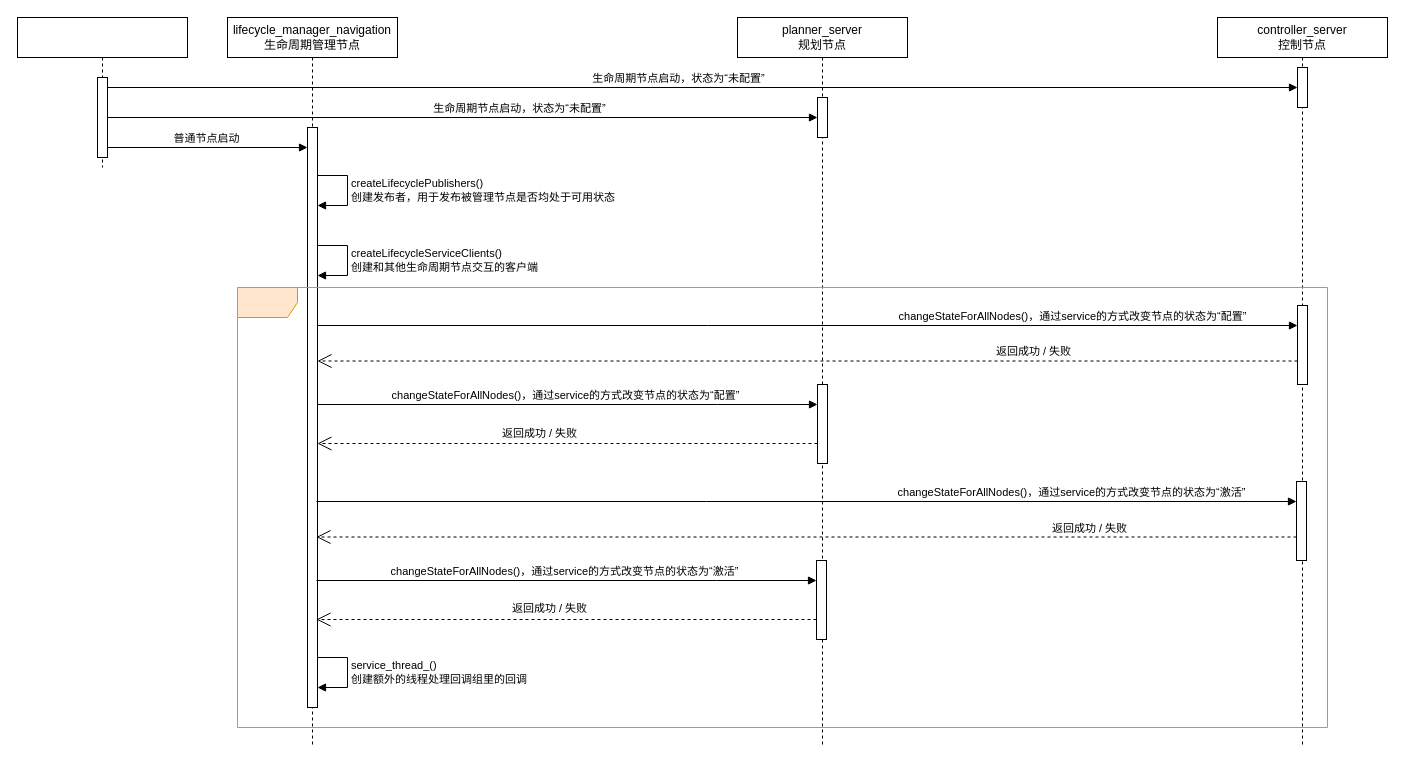
Image size: 1405x765. Some labels were removed from this diagram. Each missing label, with the centre of its shape:
"navigation_launch.py 节点启动文件" goes at point (102, 92).
"startup()" goes at point (782, 507).
